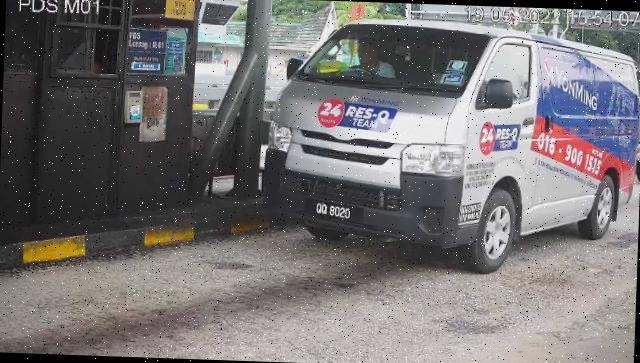License_Plate: (305, 197, 368, 228)
van: (261, 16, 640, 280)
